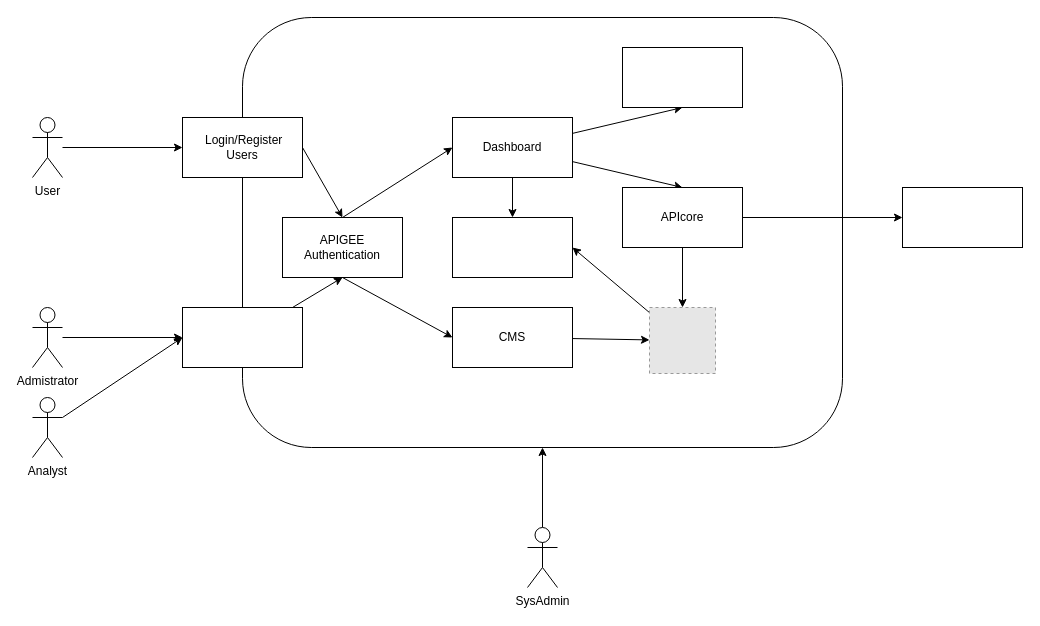
Image size: 1040x626. Some labels were removed from this diagram. Grey dashed boxes stand in for pictures. The shapes that lost their labels are listed below. From the top down, each one's centre as x and y in pixels, then its label:
pixel 682 77: CRUD Personal Information
pixel 962 217: Trird API
pixel 512 247: APICore Graph
pixel 242 337: Login Employees
